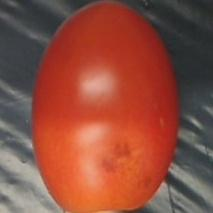unripe: (26, 1, 185, 213)
